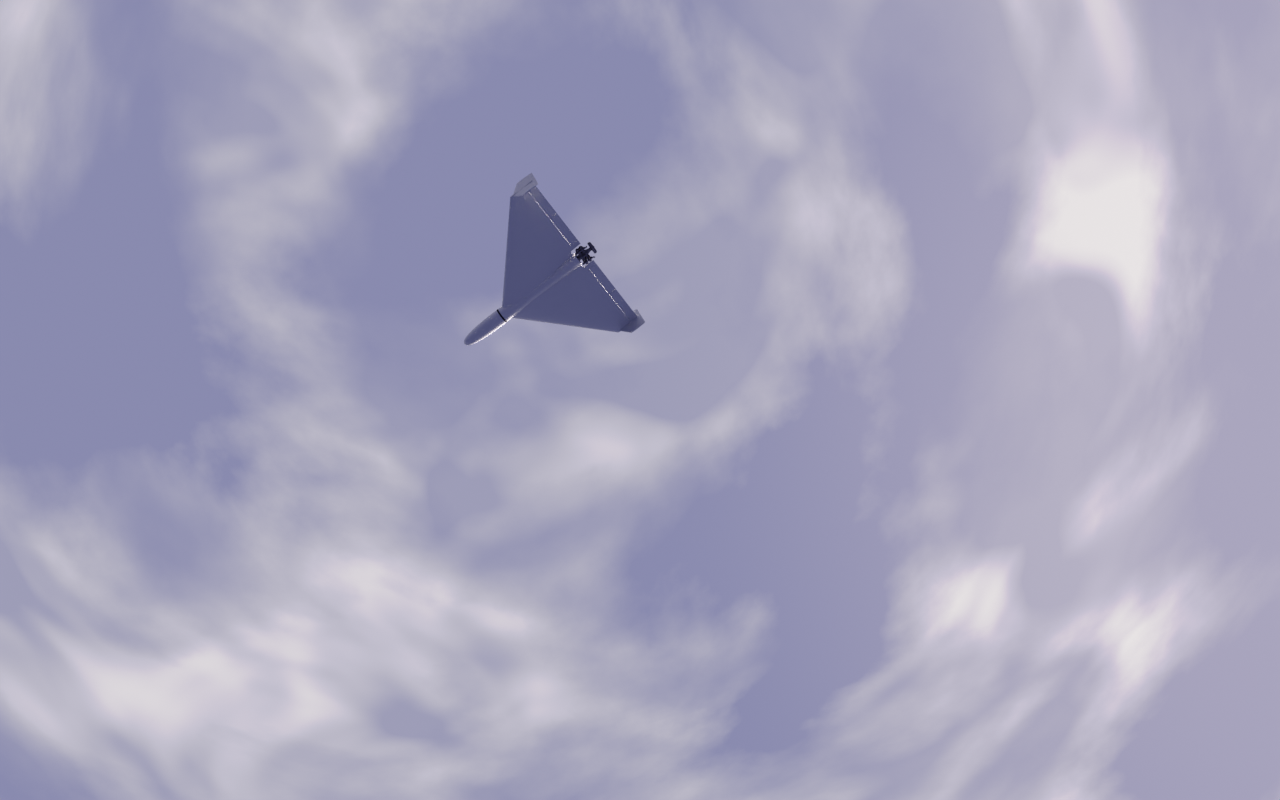shahed: (464, 173, 647, 348)
